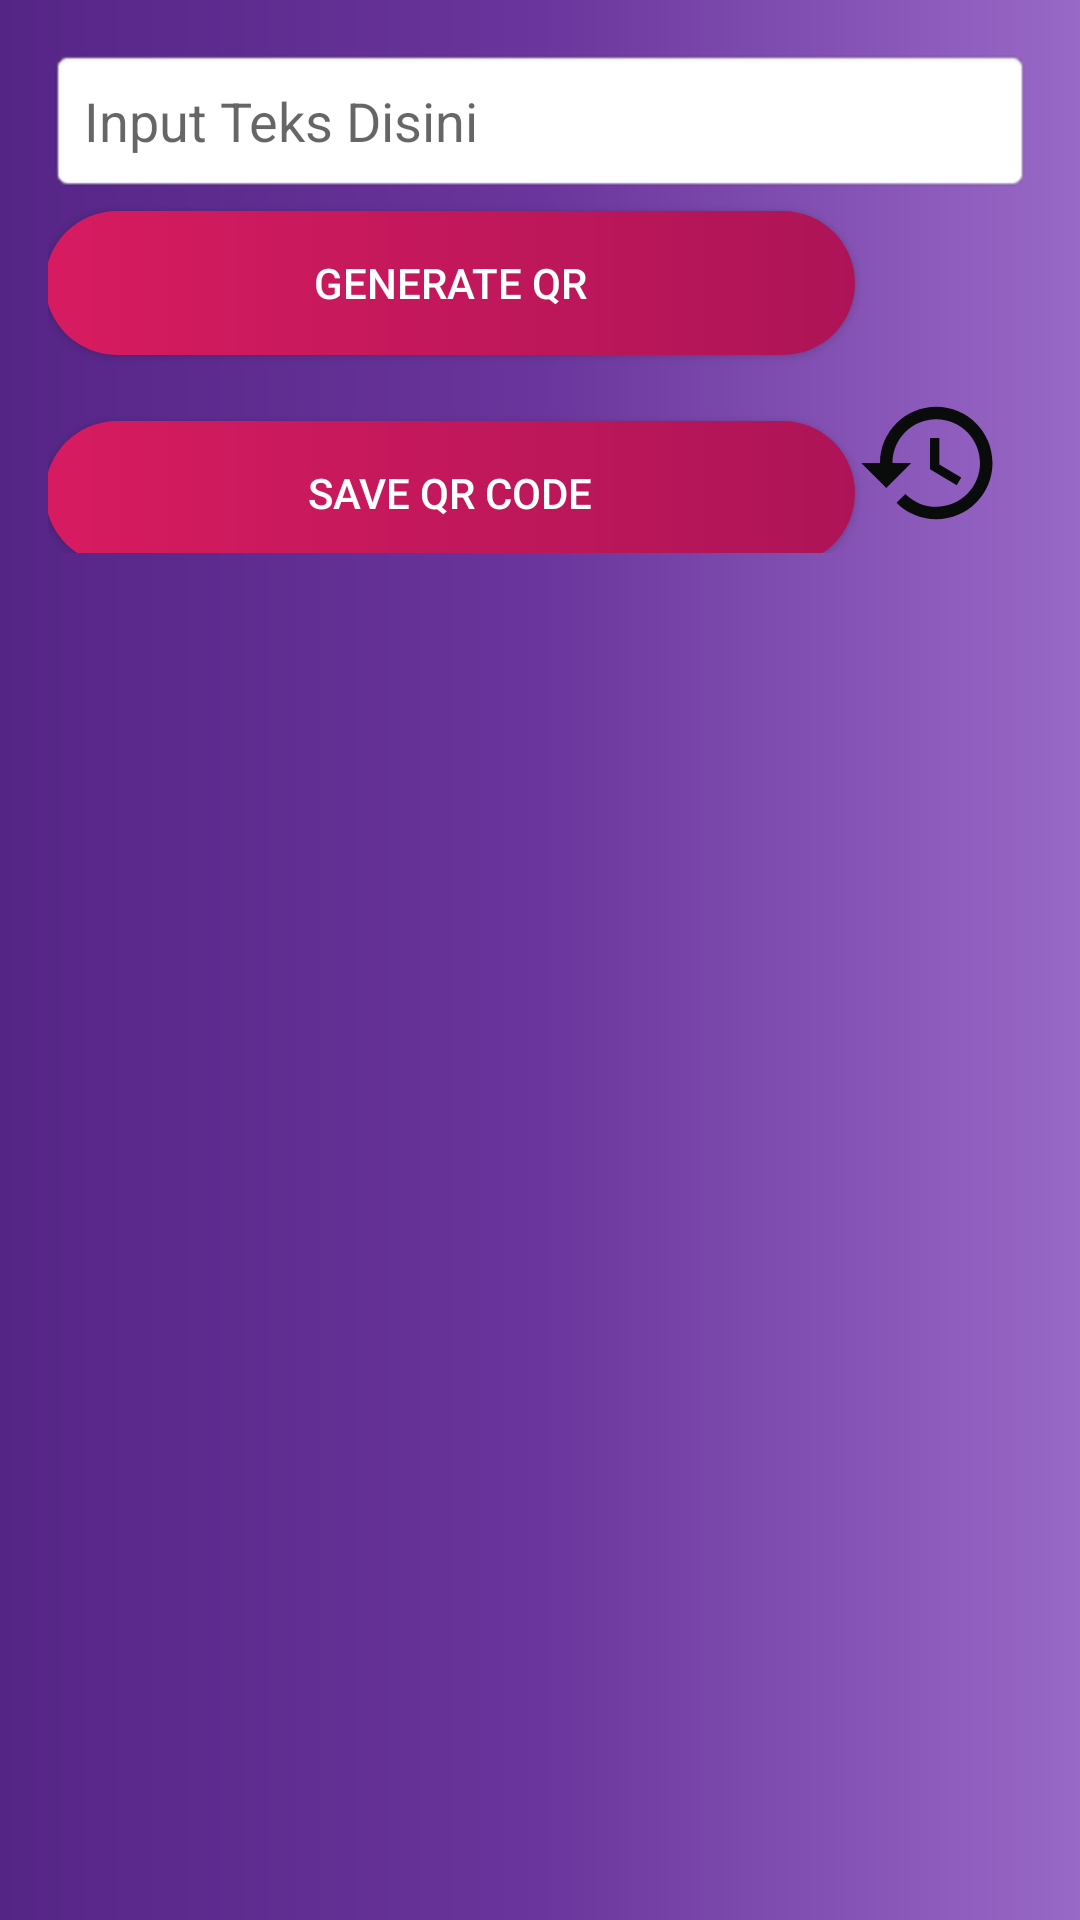

Named icons in this screenshot (1080×1920) and their centers, (x,y):
history: (924,463)
